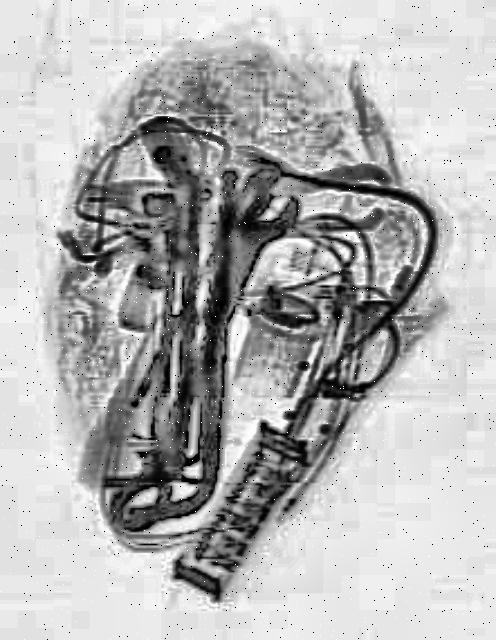Wrench: (190, 170, 304, 344)
